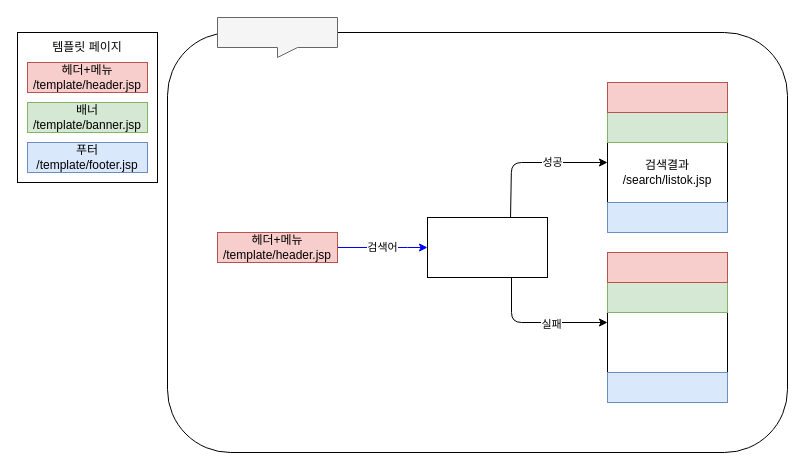
The diagram is 805 pixels wide and 470 high, and some of its shapes have lost their labels. The centre of each missing label's shape, as x and y in pixels:
검색결과: [277,37]
검색결과 없음 /search/listempty.jsp: [667,342]
헤더+메뉴 검색 /search/list.do: [487,247]
